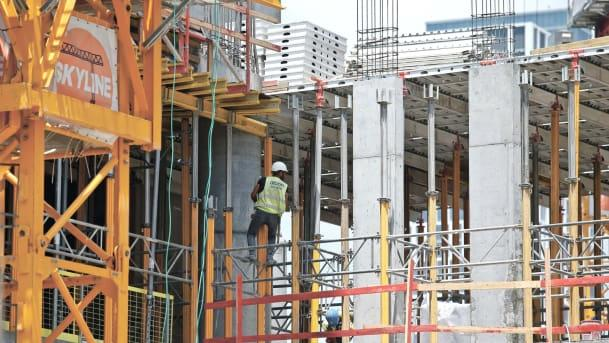helmet: (270, 161, 289, 172)
wear: (257, 176, 286, 215)
